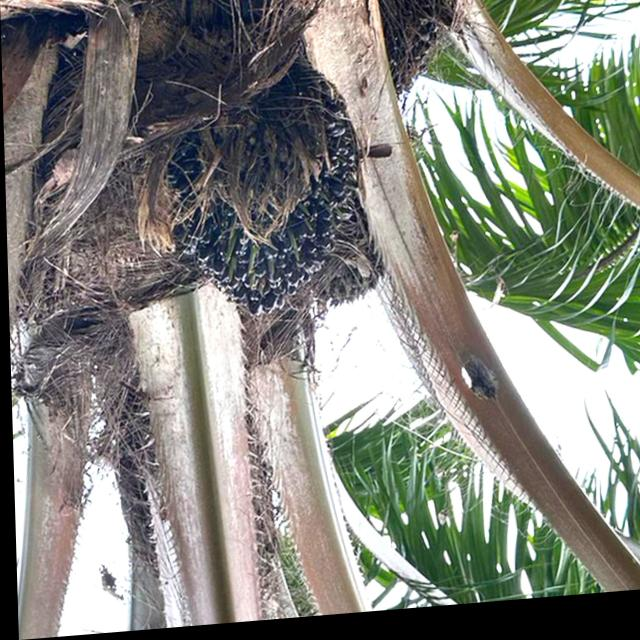unripe: (156, 58, 372, 340)
